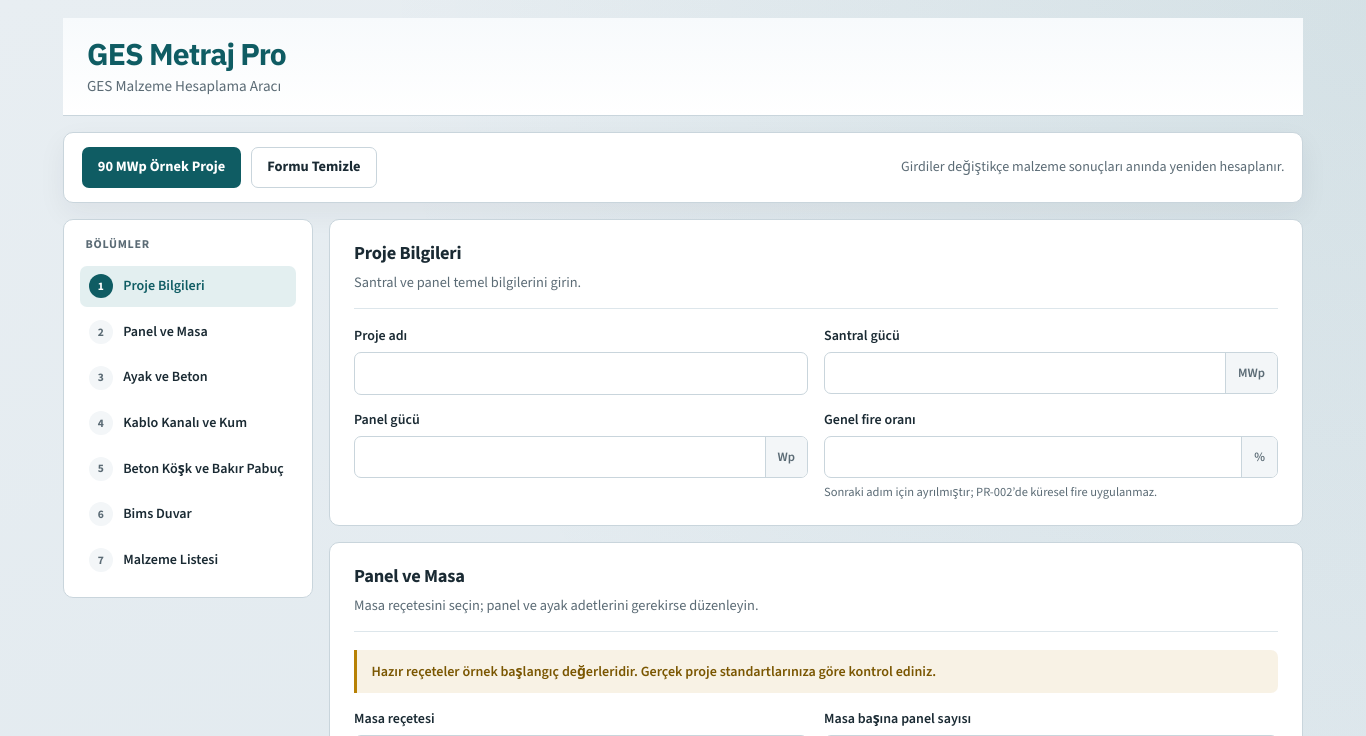
Test: GES Metraj Pro — PR-002 / PR-003 calculations › resets calculated results with Formu Temizle
The width and height of the screenshot is (1366, 736).
Click the button "90 MWp Örnek Proje" at (162, 168), box [82,147,242,188]
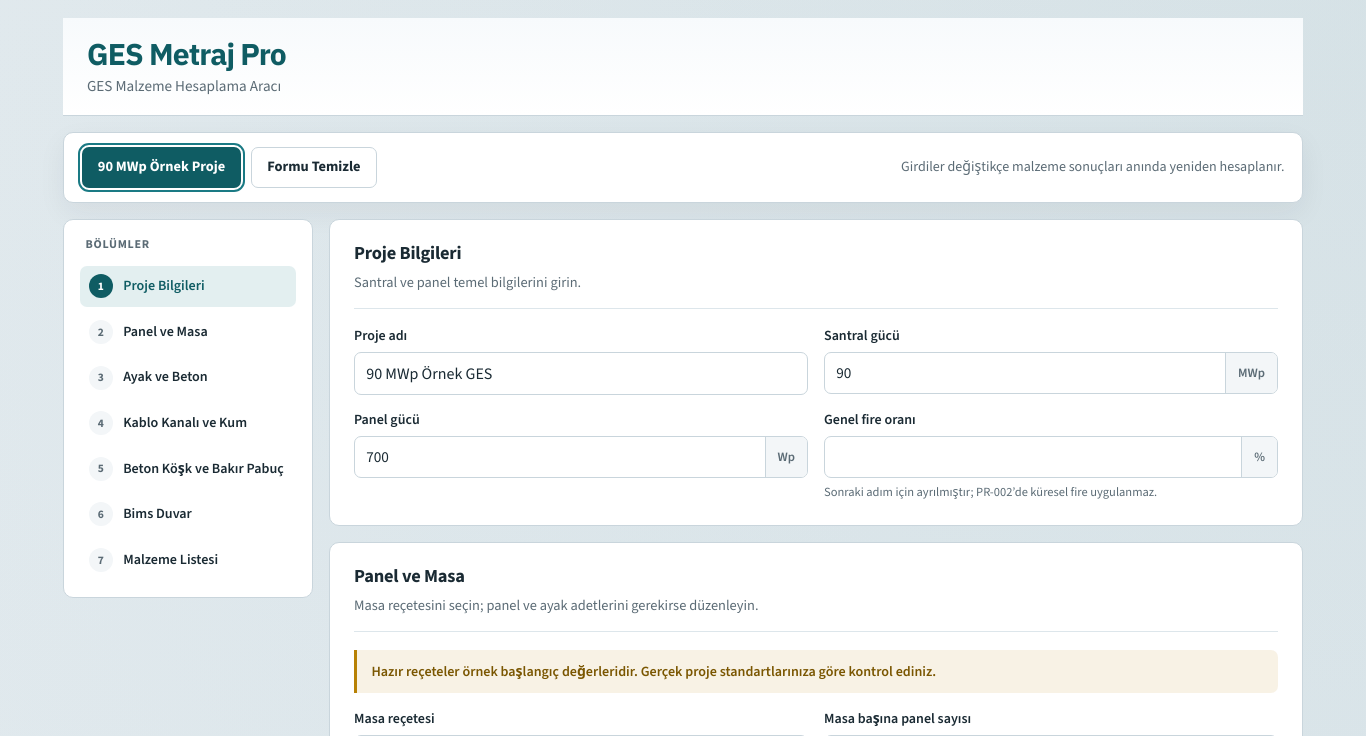
Click the button "Formu Temizle" at (314, 168), box [251,147,377,188]
(page scrolled)
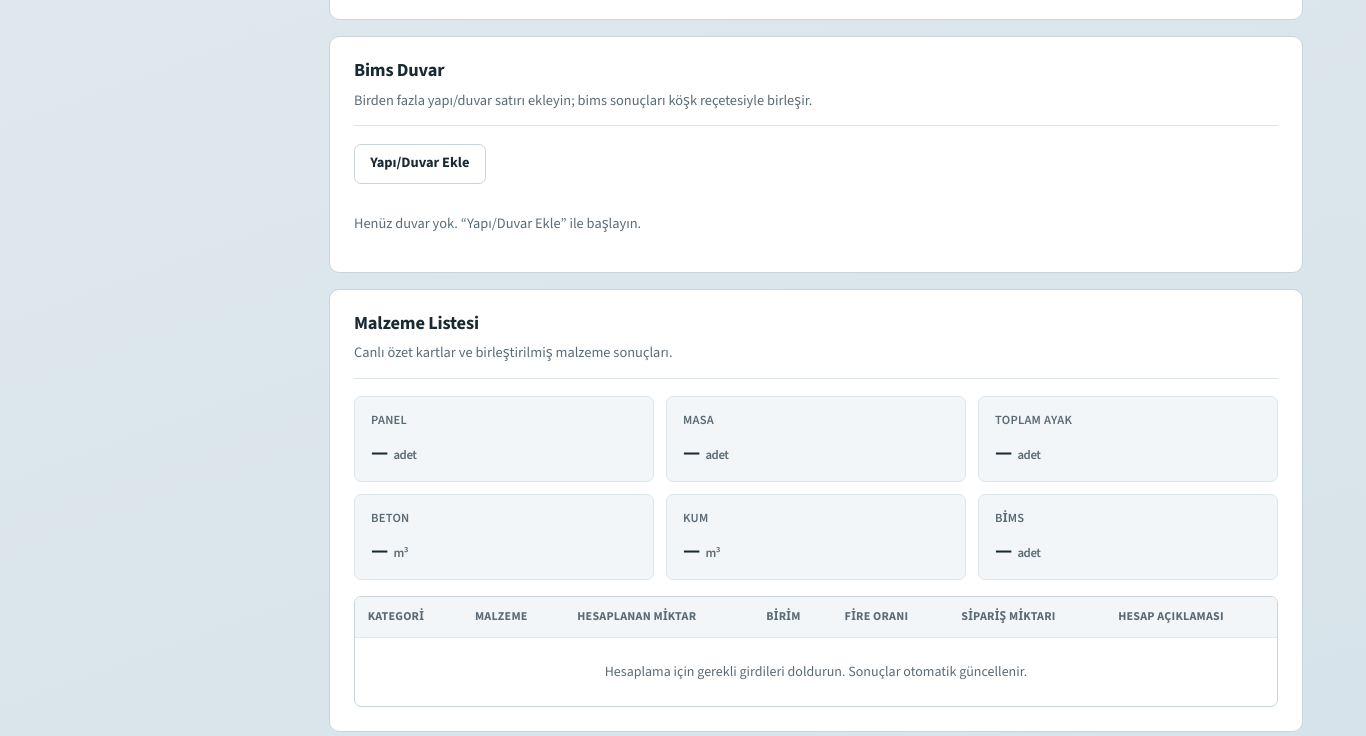
Expected: the 1st text "—" is shown, [371,436,388,468]
